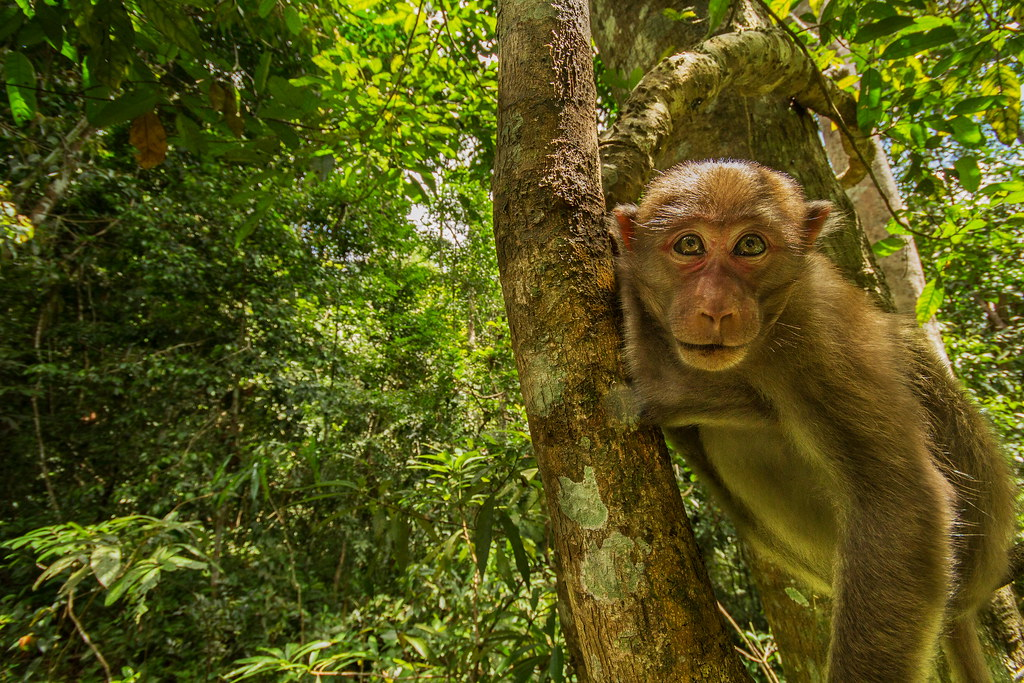monkey: (589, 135, 1024, 683)
